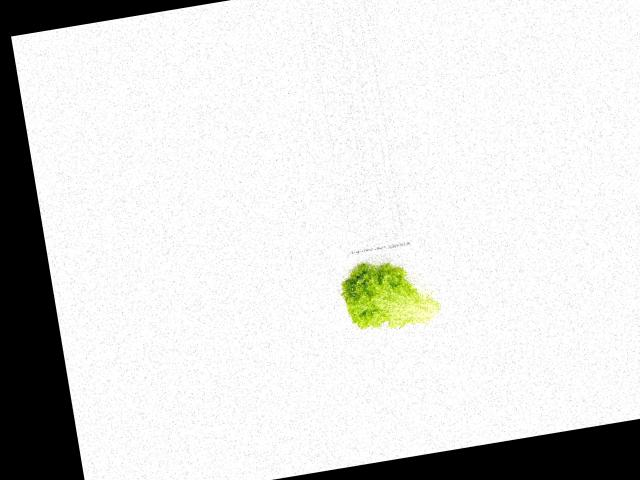lettuce: (333, 252, 442, 340)
